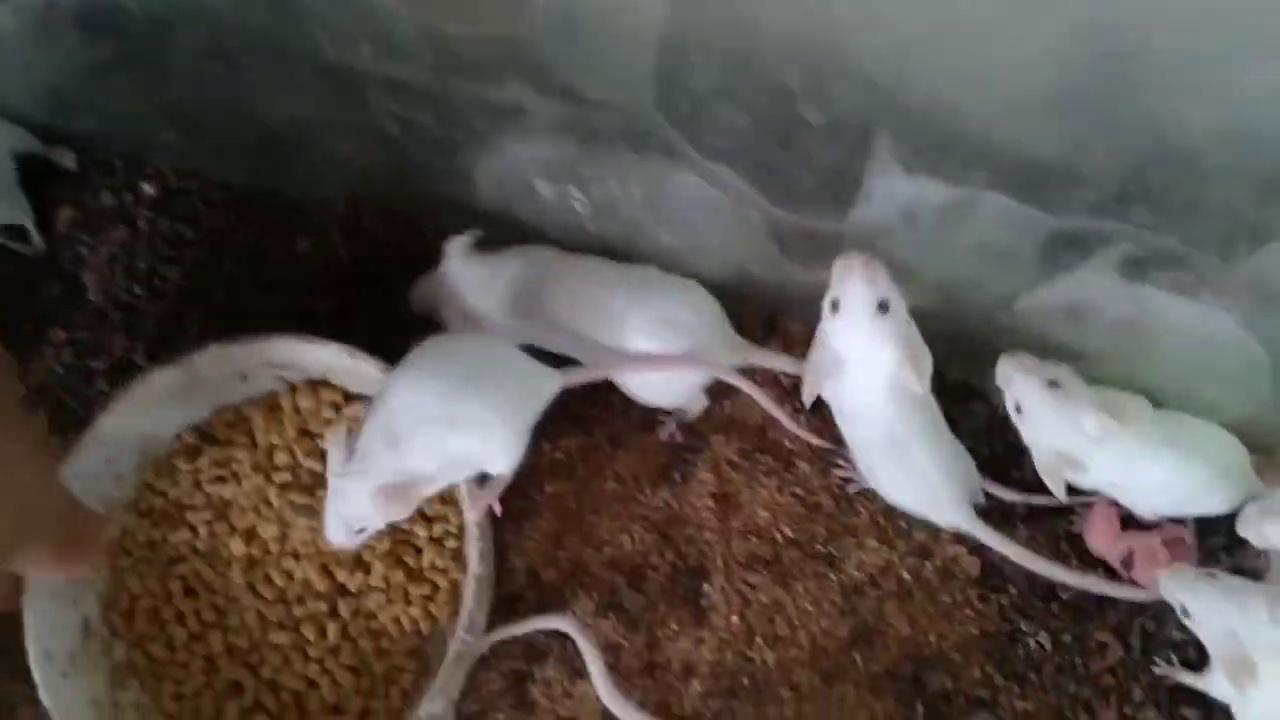rat: (798, 250, 1152, 594), (327, 330, 836, 550), (413, 229, 801, 445), (992, 349, 1266, 518)
